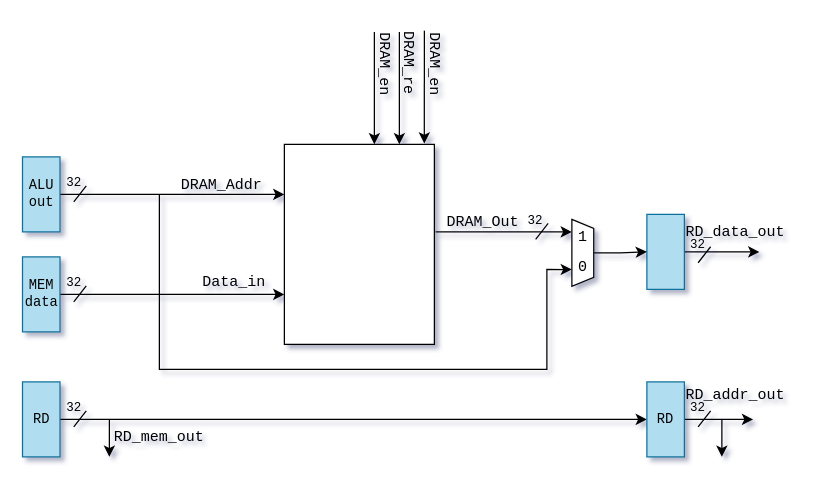
This 814x496 diagram has some shape labels left out. Here are the shapes that lost their labels. From the top down, the centre of each, then its label:
(x=358, y=243): Data Memory
(x=665, y=251): RD data
